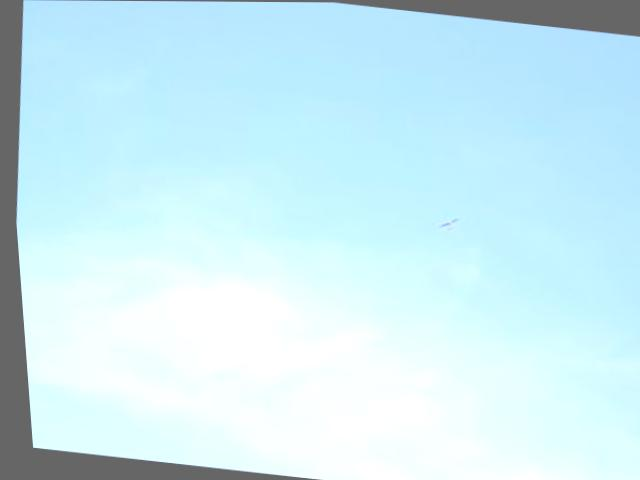uav: (434, 205, 463, 238)
